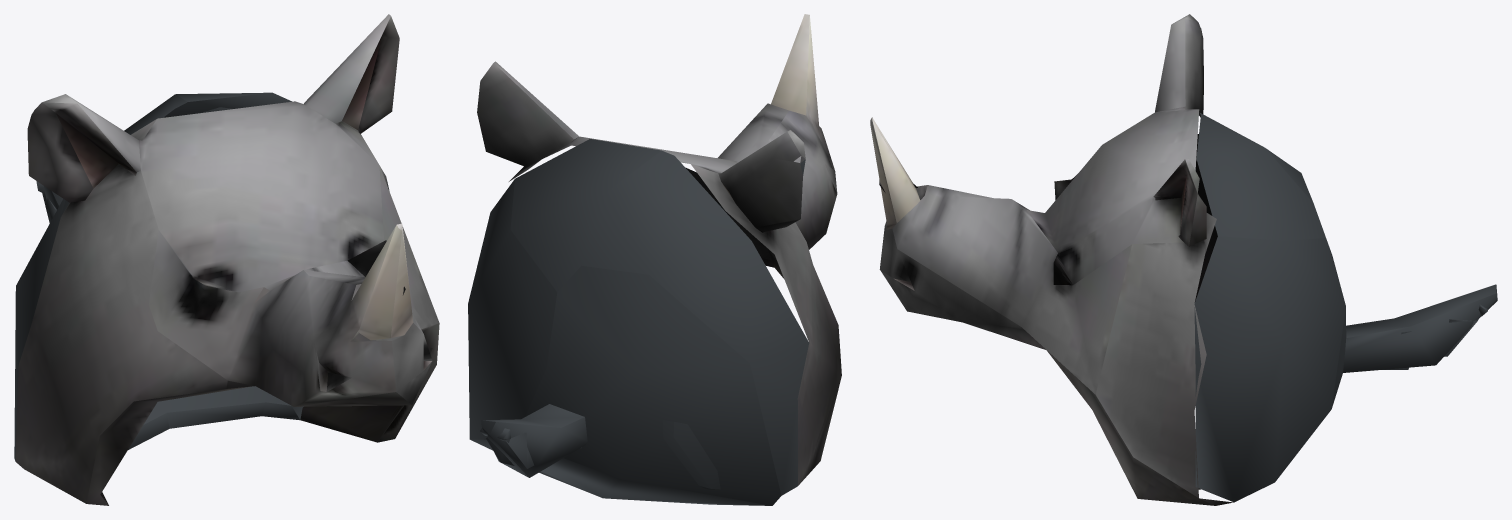
The model's file is rhino.glb.
3 views of the same model, side by side, from view 1: azimuth 30°, elevation 25°; view 2: azimuth 150°, elevation 25°; view 3: azimuth 270°, elevation 25° (orthographic). The views are drawn at different scales.
Visible parts, largest first — view 1: geometry_0; view 2: geometry_0; view 3: geometry_0.
Boxes of the visible parts, x1,y1,x2,y2 form: geometry_0: (14,14,439,505); geometry_0: (468,14,841,505); geometry_0: (870,14,1497,505).
Size of the model in its own units: 0.4572 by 0.475 by 0.75.
2 materials, 1 textured.
